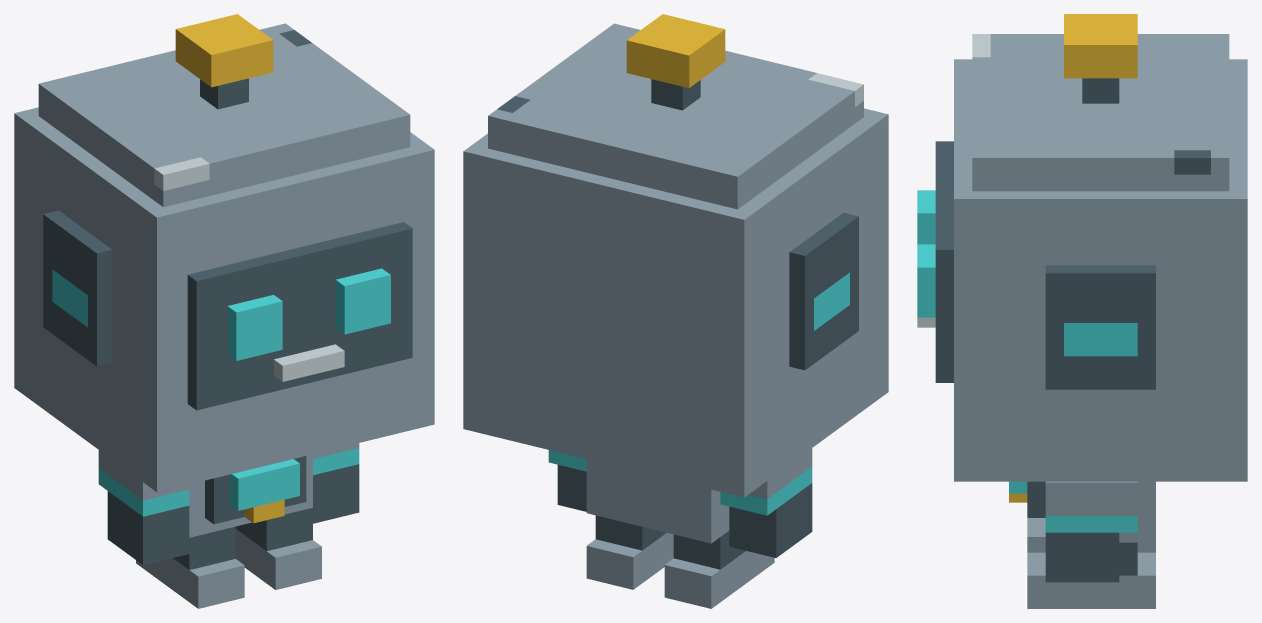
The model's file is robot.glb.
3 views of the same model, side by side, from view 1: azimuth 30°, elevation 25°; view 2: azimuth 150°, elevation 25°; view 3: azimuth 270°, elevation 25° (orthographic). The views are drawn at different scales.
Parts seen in each view (by area): view 1: head, torso, arm_left, leg_right, leg_left, arm_right; view 2: head, torso, arm_left, leg_left, leg_right, arm_right; view 3: head, arm_right, leg_right, torso, leg_left.
Boxes of the visible parts, x1=… form: head: x1=14, y1=14, x2=434, y2=492; torso: x1=189, y1=454, x2=312, y2=537; arm_left: x1=98, y1=450, x2=189, y2=565; leg_right: x1=235, y1=507, x2=321, y2=589; leg_left: x1=136, y1=526, x2=244, y2=608; arm_right: x1=313, y1=443, x2=359, y2=523; head: x1=463, y1=14, x2=888, y2=497; torso: x1=586, y1=459, x2=729, y2=543; arm_left: x1=720, y1=448, x2=812, y2=557; leg_left: x1=664, y1=531, x2=774, y2=608; leg_right: x1=586, y1=515, x2=673, y2=589; arm_right: x1=548, y1=450, x2=586, y2=511; head: x1=917, y1=14, x2=1247, y2=481; arm_right: x1=1045, y1=481, x2=1137, y2=582; leg_right: x1=1027, y1=542, x2=1155, y2=608; torso: x1=1009, y1=481, x2=1155, y2=542; leg_left: x1=1027, y1=518, x2=1155, y2=552.
Size of the model in its own units: 1 by 1.65 by 0.9.
Materials: 1 (1 with a texture image).
